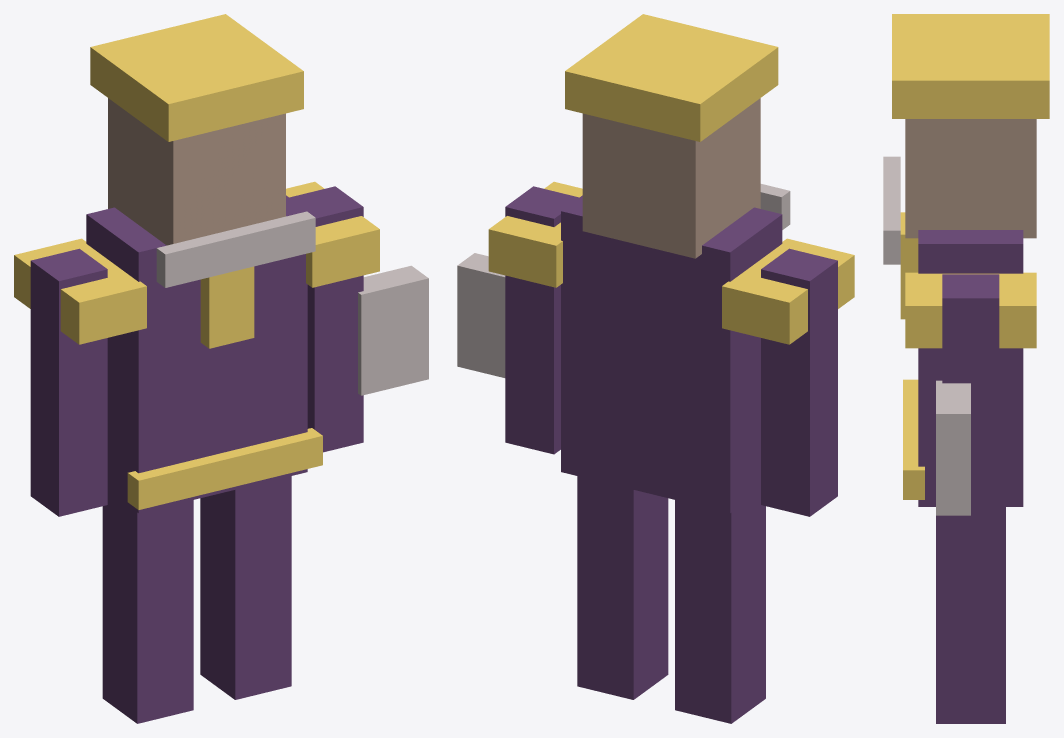
File: 10_selka_trenchmark_tactician_of_null.glb
The picture shows the model from 3 angles, left to right: view 1: azimuth 30°, elevation 25°; view 2: azimuth 150°, elevation 25°; view 3: azimuth 270°, elevation 25°; orthographic projection.
Visible parts, largest first — view 1: Selka Trenchmark, Tactician of Null; view 2: Selka Trenchmark, Tactician of Null; view 3: Selka Trenchmark, Tactician of Null.
Boxes of the visible parts, bbox=[...] form: Selka Trenchmark, Tactician of Null: bbox=[14, 14, 428, 723]; Selka Trenchmark, Tactician of Null: bbox=[457, 14, 854, 723]; Selka Trenchmark, Tactician of Null: bbox=[883, 14, 1049, 723].
Bounding box in the file's own units: 0.932 × 1.54 × 0.3632.
